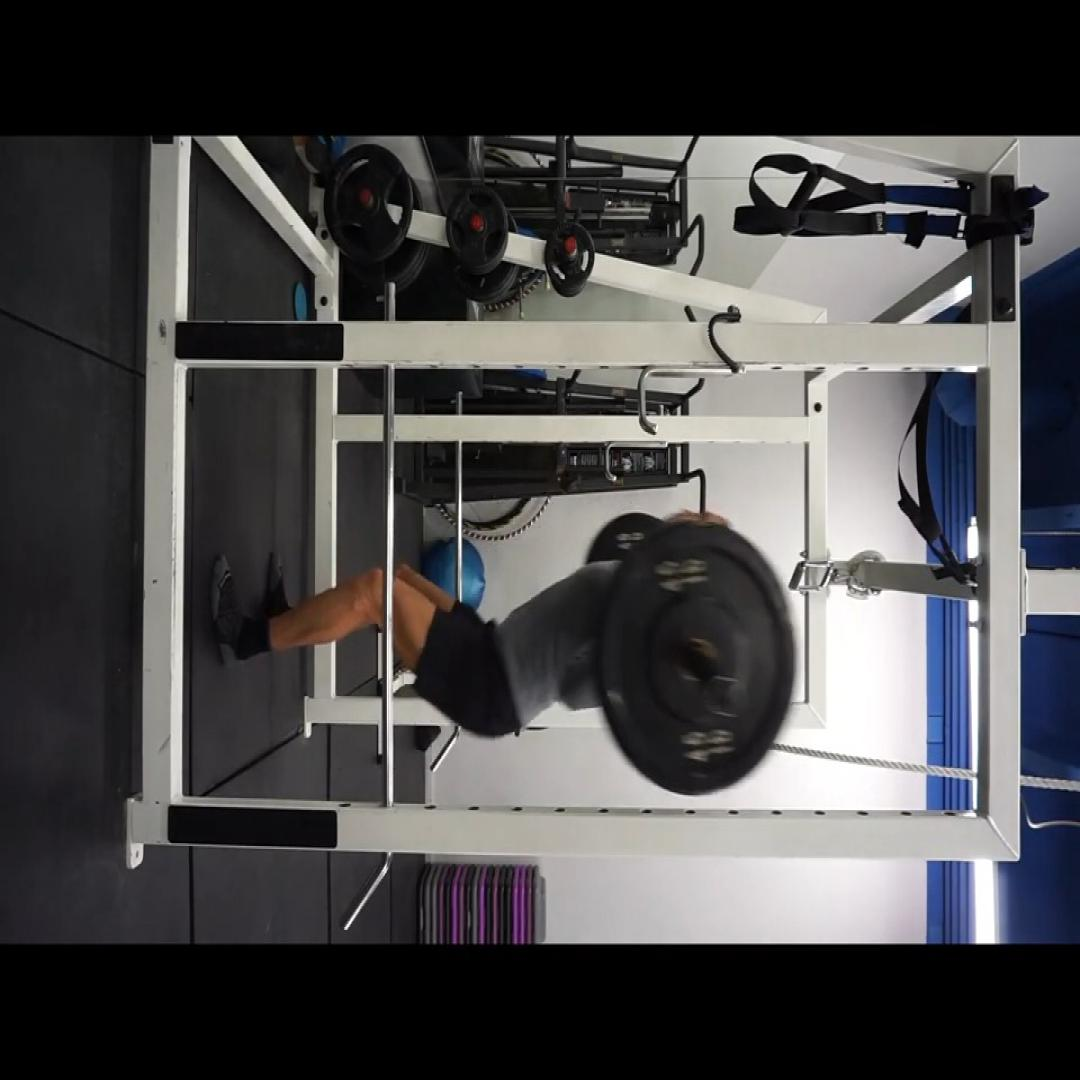Bar: (706, 675, 748, 717)
Barbell: (598, 521, 796, 795)
